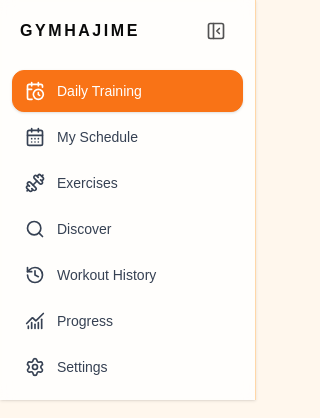
Test: Sidebar › collapses to accessible icon-only navigation and expands again
The width and height of the screenshot is (320, 418).
Step 1. Click the button named "Collapse sidebar" → (216, 31), box [197,12,235,50]
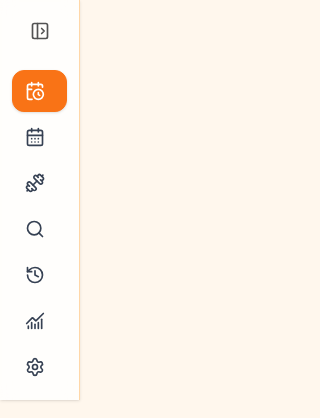
Check: the text "GYMHAJIME" is gone
Step 2. Click the button named "Expand sidebar" → (40, 31), box [21,12,59,50]
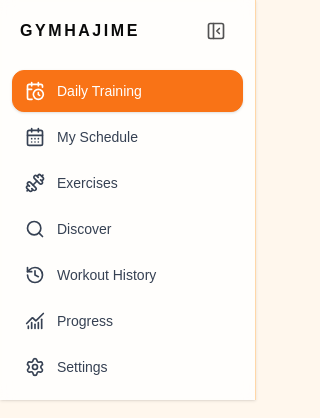
Check: the text "GYMHAJIME" is shown, box [20,19,140,43]
